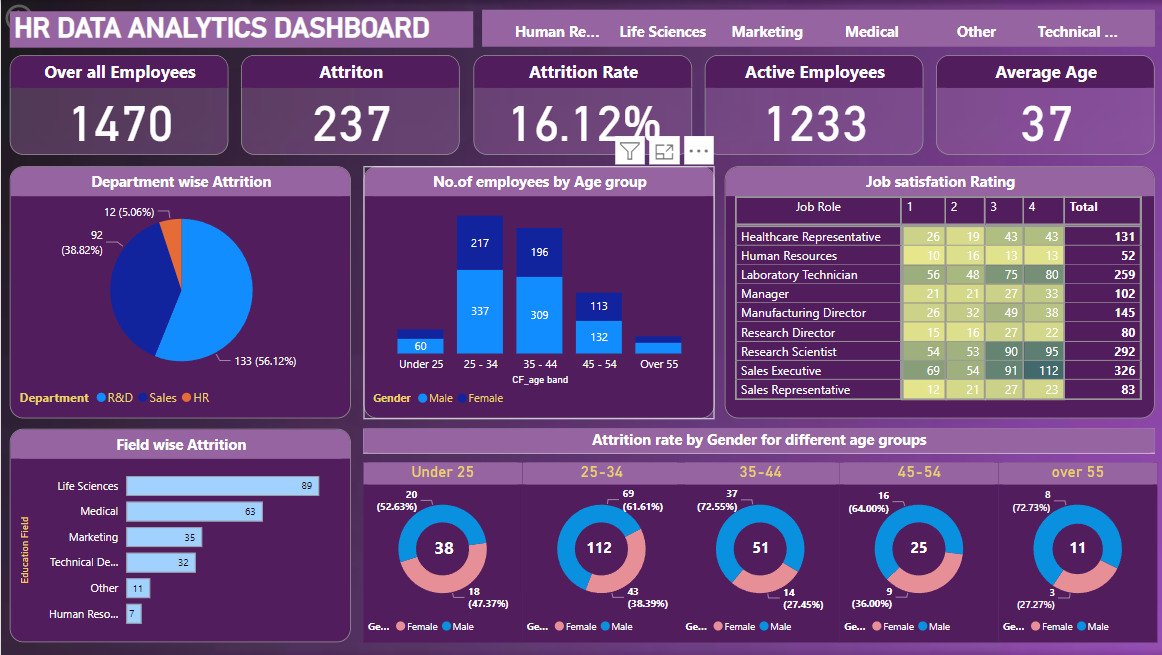

The page's visual inventory and layout, read from the dashboard file:
{"tool":"powerbi","page":{"name":"Dashboard","canvas":[1280,720],"ordinal":0},"visuals":[{"type":"card","title":"Over all Employees","fields":{"Values":["Sum(HR data.Employee Count)"]},"box":[9.6,60.4,240.1,109.8],"z":0},{"type":"card","title":"Attriton","fields":{"Values":["Sum(HR data.Attrition count)"]},"box":[263.5,60.4,240.1,109.8],"z":1000},{"type":"card","title":"Attrition Rate","fields":{"Values":["HR data.Attrition Rate"]},"box":[518.7,60.4,240.1,109.8],"z":2000},{"type":"card","title":"Active Employees","fields":{"Values":["HR data.Active Employees"]},"box":[772.6,60.4,240.1,109.8],"z":3000},{"type":"actionButton","box":[0,0,100,40],"z":4000},{"type":"card","title":"Average Age","fields":{"Values":["Avg(HR data.Age)"]},"box":[1026.4,60.4,240.1,109.8],"z":5000},{"type":"pieChart","title":"Department wise Attrition","fields":{"Category":["HR data.Department"],"Y":["Sum(HR data.Attrition count)"]},"box":[9.6,182.5,374.6,277.2],"z":6000},{"type":"columnChart","title":"No.of employees by Age group","fields":{"Category":["HR data.CF_age band"],"Y":["Sum(HR data.Employee Count)"],"Series":["HR data.Gender"]},"box":[397.9,182.5,385.6,277.2],"z":7000},{"type":"pivotTable","title":"Job satisfation Rating","fields":{"Rows":["HR data.Job Role"],"Columns":["HR data.Job Satisfaction"],"Values":["Sum(HR data.Employee Count)"]},"box":[794.5,182.5,472,277.2],"z":8000},{"type":"barChart","title":"Field wise Attrition","fields":{"Category":["HR data.Education Field"],"Y":["Sum(HR data.Attrition count)"]},"box":[9.6,470.7,374.6,234.6],"z":9000},{"type":"donutChart","title":"Under 25","fields":{"Category":["HR data.Gender"],"Y":["Sum(HR data.Attrition count)"],"Series":["HR data.CF_age band"]},"box":[397.9,507.7,174,197.6],"z":10000},{"type":"textbox","title":"Attrition rate by Gender for different age groups","box":[397.9,470.7,868.6,27.4],"z":11000},{"type":"donutChart","title":"25-34","fields":{"Category":["HR data.Gender"],"Y":["Sum(HR data.Attrition count)"],"Series":["HR data.CF_age band"]},"box":[572.2,507.7,174.3,197.6],"z":12000},{"type":"donutChart","title":"35-44","fields":{"Category":["HR data.Gender"],"Y":["Sum(HR data.Attrition count)"],"Series":["HR data.CF_age band"]},"box":[746.5,507.7,174.3,197.6],"z":13000},{"type":"donutChart","title":"45-54","fields":{"Category":["HR data.Gender"],"Y":["Sum(HR data.Attrition count)"],"Series":["HR data.CF_age band"]},"box":[920.8,507.7,174.3,197.6],"z":14000},{"type":"donutChart","title":"over 55","fields":{"Category":["HR data.Gender"],"Y":["Sum(HR data.Attrition count)"],"Series":["HR data.CF_age band"]},"box":[1095,507.7,174.3,197.6],"z":15000},{"type":"card","fields":{"Values":["Sum(HR data.Attrition count)"]},"box":[469.3,588.7,34.3,28.8],"z":16000},{"type":"card","fields":{"Values":["Sum(HR data.Attrition count)"]},"box":[636.7,588.7,39.8,28.8],"z":17000},{"type":"card","fields":{"Values":["Sum(HR data.Attrition count)"]},"box":[813.7,588.7,41.2,28.8],"z":18000},{"type":"card","fields":{"Values":["Sum(HR data.Attrition count)"]},"box":[989.4,588.7,37,28.8],"z":19000},{"type":"card","fields":{"Values":["Sum(HR data.Attrition count)"]},"box":[1163.6,588.7,37,28.8],"z":20000},{"type":"textbox","title":"HR DATA ANALYTICS DASHBOARD","box":[9.6,12.3,509.1,39.8],"z":21000},{"type":"slicer","fields":{"Values":["HR data.Education Field"]},"box":[528.3,11,738.3,39.8],"z":22000}]}

Visuals, with their boxes in screenshot pixels (x1, y1, x2, y2), scaled from the page's 1280x720 canvas onto the 1162x655 screenshot:
"Over all Employees" card: [left=9, top=55, right=227, bottom=155]
"Attriton" card: [left=239, top=55, right=457, bottom=155]
"Attrition Rate" card: [left=471, top=55, right=689, bottom=155]
"Active Employees" card: [left=701, top=55, right=919, bottom=155]
actionButton: [left=0, top=0, right=91, bottom=36]
"Average Age" card: [left=932, top=55, right=1150, bottom=155]
"Department wise Attrition" pieChart: [left=9, top=166, right=349, bottom=418]
"No.of employees by Age group" columnChart: [left=361, top=166, right=711, bottom=418]
"Job satisfation Rating" pivotTable: [left=721, top=166, right=1150, bottom=418]
"Field wise Attrition" barChart: [left=9, top=428, right=349, bottom=642]
"Under 25" donutChart: [left=361, top=462, right=519, bottom=642]
"Attrition rate by Gender for different age groups" textbox: [left=361, top=428, right=1150, bottom=453]
"25-34" donutChart: [left=519, top=462, right=678, bottom=642]
"35-44" donutChart: [left=678, top=462, right=836, bottom=642]
"45-54" donutChart: [left=836, top=462, right=994, bottom=642]
"over 55" donutChart: [left=994, top=462, right=1152, bottom=642]
card - Sum(HR data.Attrition count): [left=426, top=536, right=457, bottom=562]
card - Sum(HR data.Attrition count): [left=578, top=536, right=614, bottom=562]
card - Sum(HR data.Attrition count): [left=739, top=536, right=776, bottom=562]
card - Sum(HR data.Attrition count): [left=898, top=536, right=932, bottom=562]
card - Sum(HR data.Attrition count): [left=1056, top=536, right=1090, bottom=562]
"HR DATA ANALYTICS DASHBOARD" textbox: [left=9, top=11, right=471, bottom=47]
slicer - HR data.Education Field: [left=480, top=10, right=1150, bottom=46]
